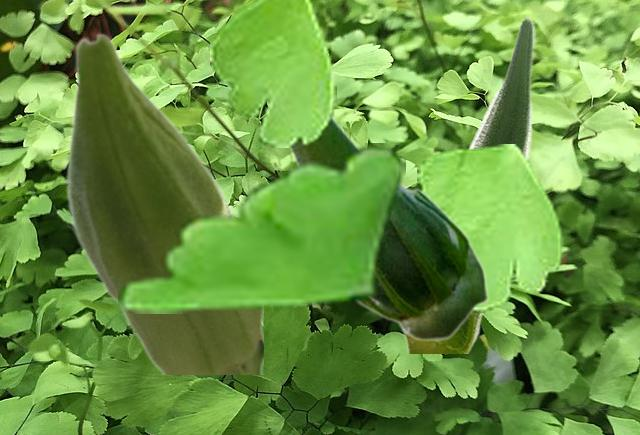okra: (65, 32, 262, 373), (286, 116, 488, 341), (400, 15, 534, 352)
